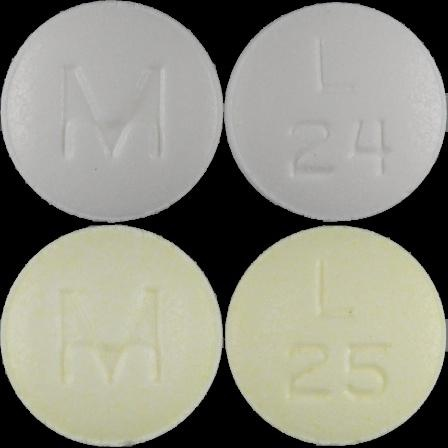51079-982: (0, 0, 224, 224)
